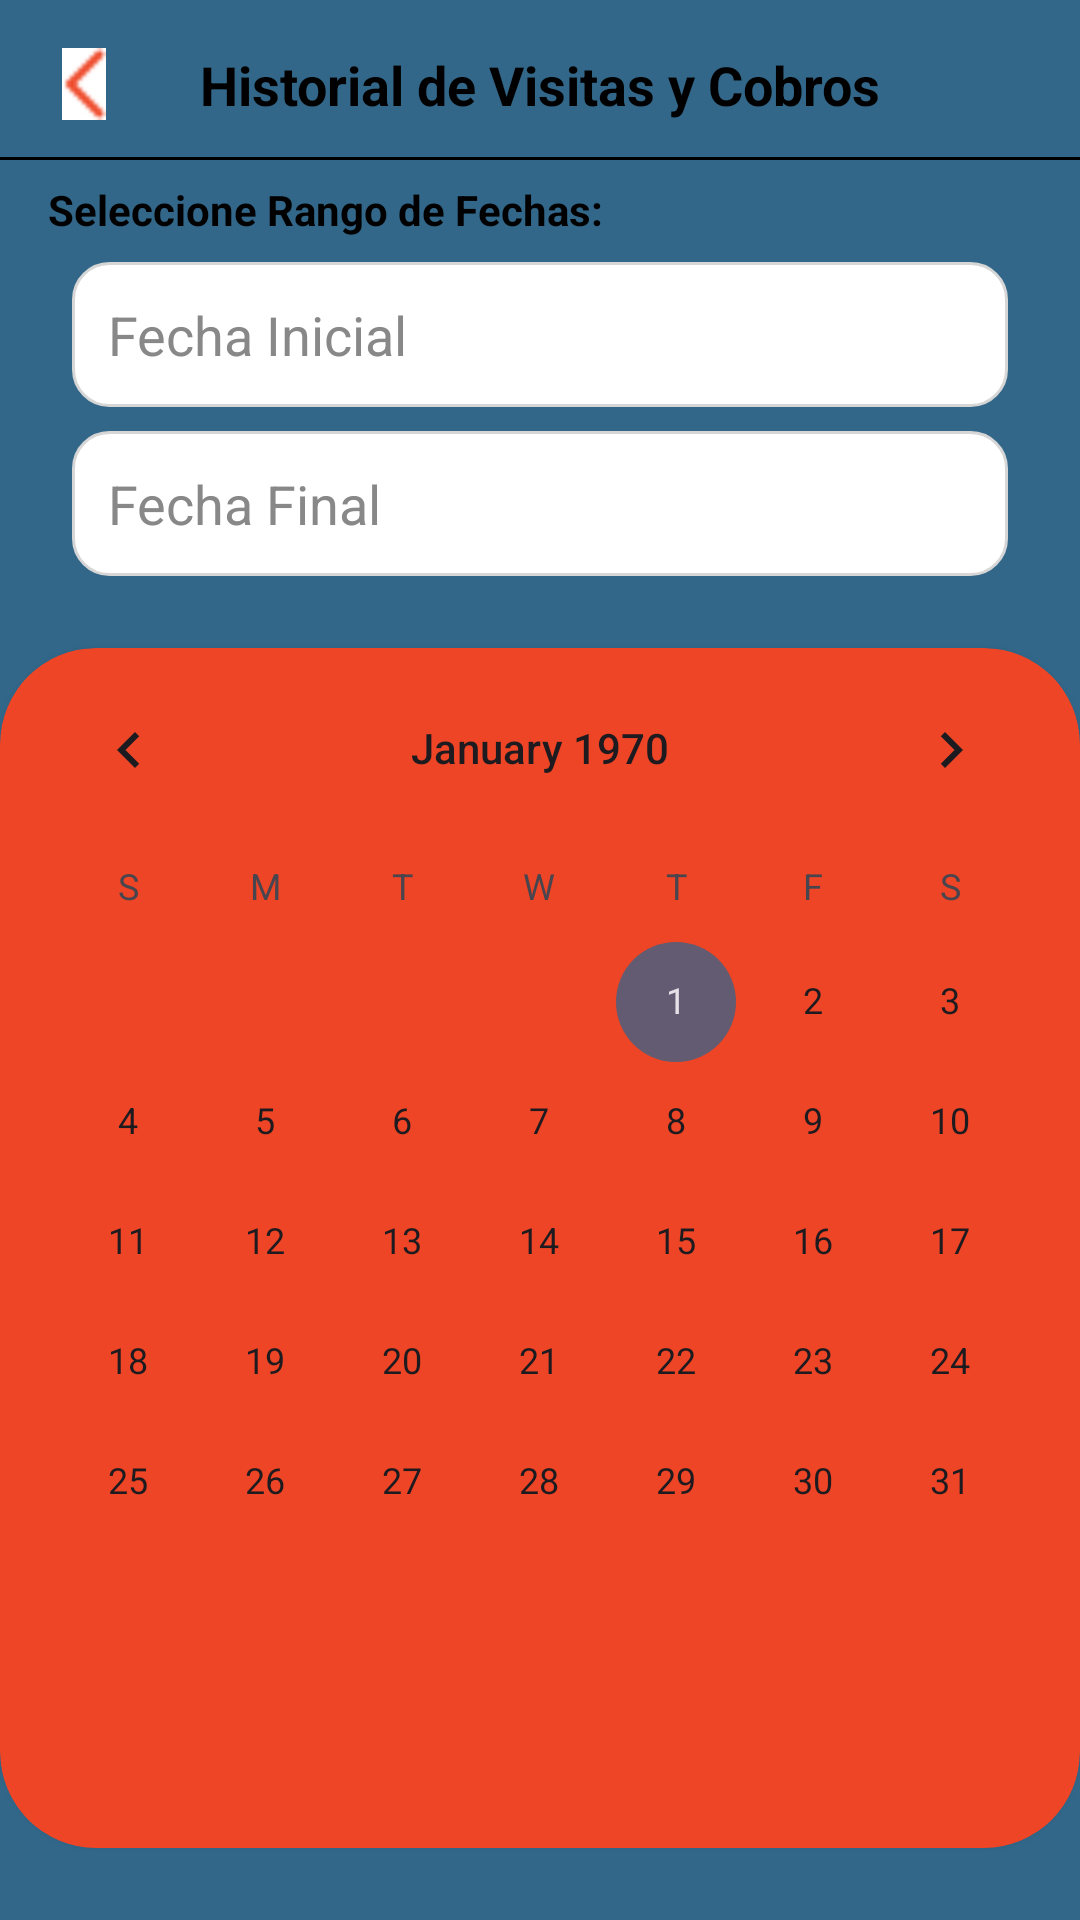

Where to tap for icons on this 1080px×1920px app screen, as point (x, y):
Flecha para volver atrás: point (84, 84)
